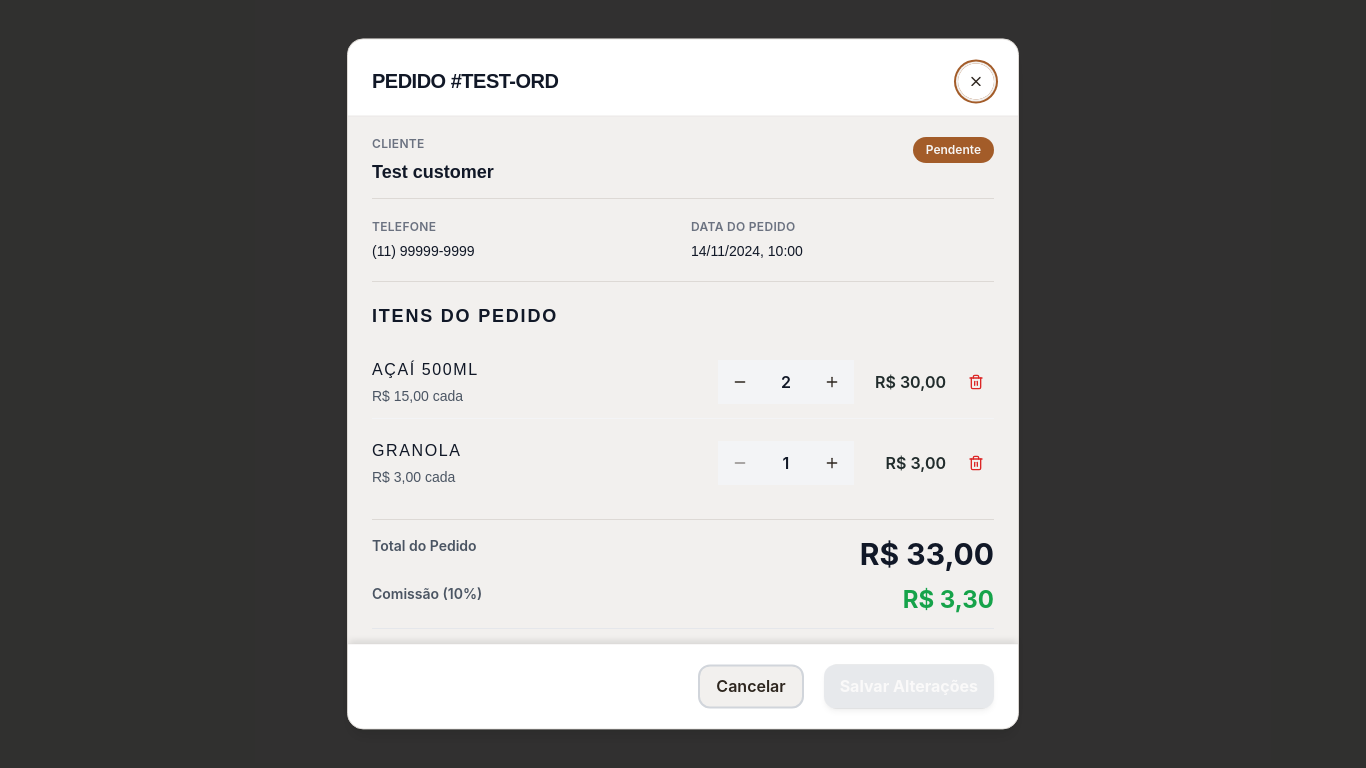
Test: OrderEditModal - Order Editing Functionality Tests › Requirement 7.4: Removing Items from Order › should remove item when trash button is clicked
Expected: the heading "Granola" is shown, [372,442,462,459]
Click the button named "Remover item" in the row of "Granola": (976, 463) [958,445,994,481]
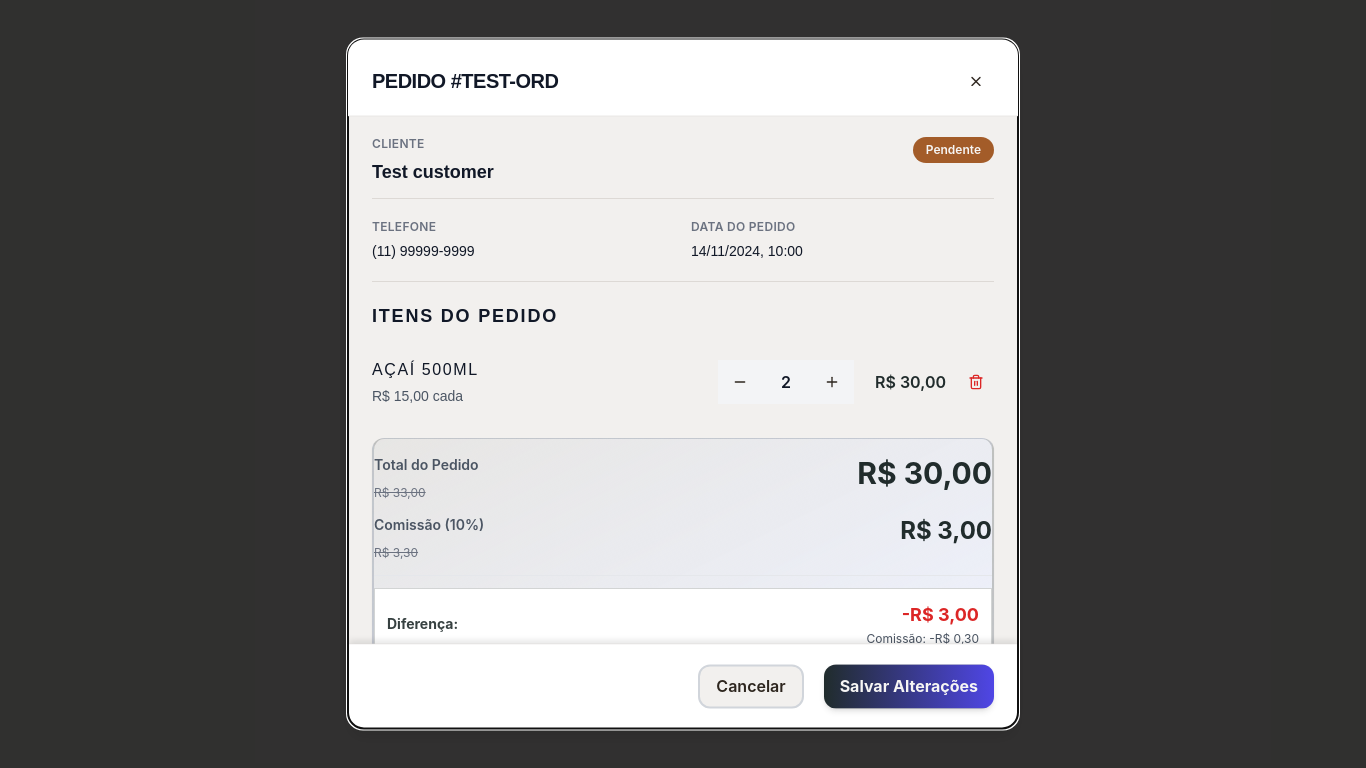
Expected: the text "R$ 30,00" in the row of "Açaí 500ml" is shown, [875,372,946,392]
Expected: the heading "Granola" is gone
